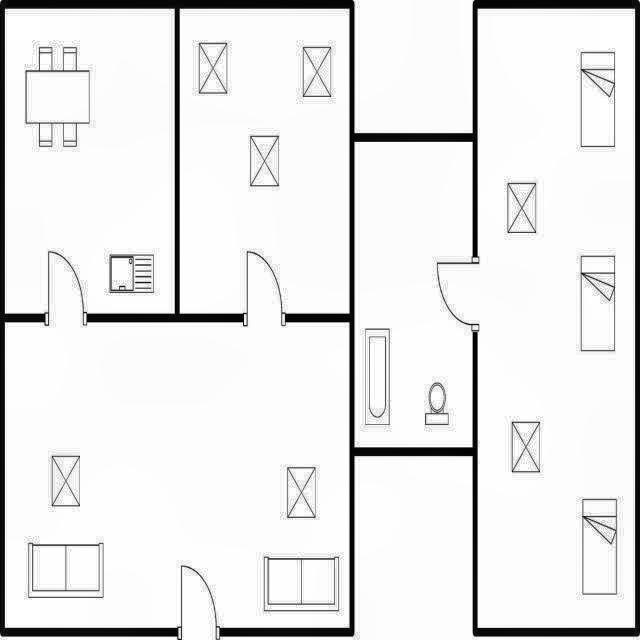room: (5, 322, 350, 628), (477, 9, 635, 628), (5, 9, 175, 314), (180, 9, 350, 314), (354, 142, 473, 447)
